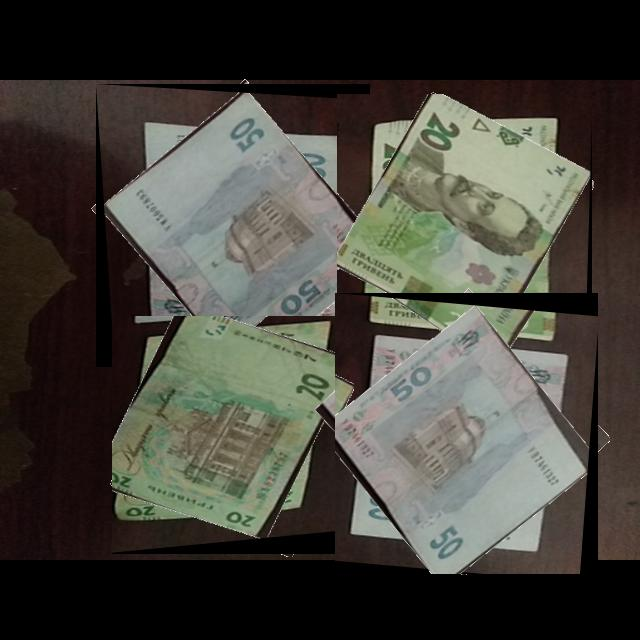20uah: (337, 94, 591, 349), (112, 316, 355, 542)
50uah: (103, 92, 371, 368), (335, 303, 590, 575)
